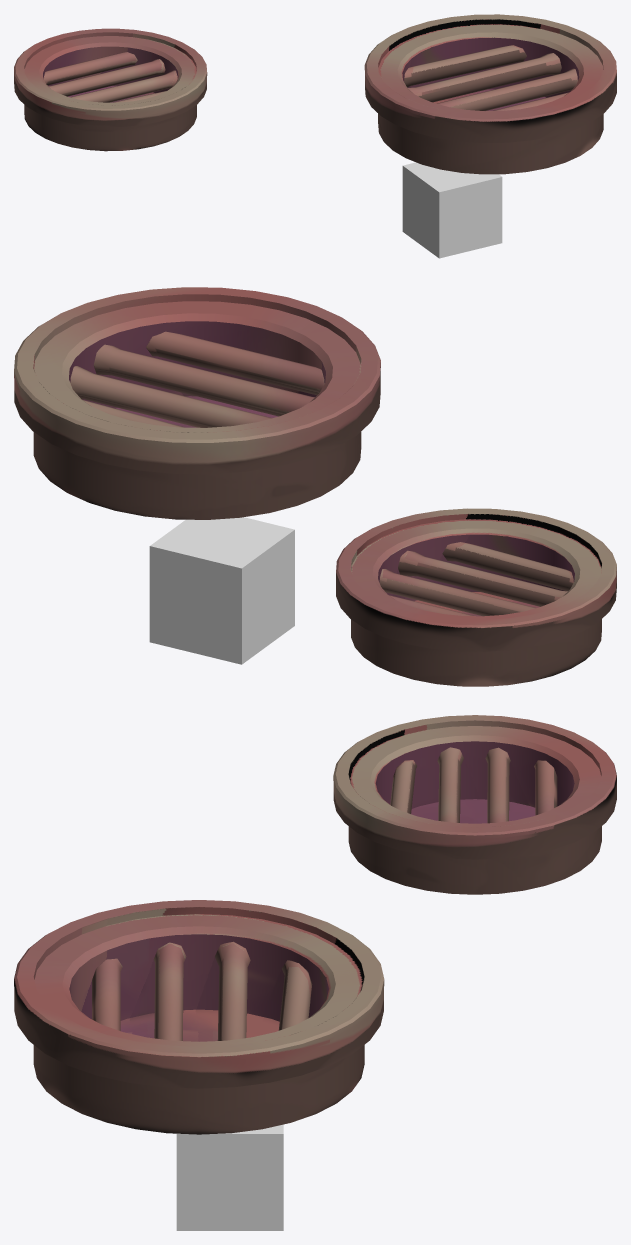
File: battlescence-4-floor005.fbx
3 renders of one model, top to bottom at view 1: azimuth 30°, elevation 25°; view 2: azimuth 150°, elevation 25°; view 3: azimuth 270°, elevation 25°, orthographic. The views are drawn at different scales.
Parts seen in each view (by area): view 1: Cylinder.015, Cylinder.018, battlescence-4-floor005; view 2: Cylinder.015, Cylinder.018, battlescence-4-floor005; view 3: Cylinder.015, Cylinder.018, battlescence-4-floor005.
Boxes of the visible parts, x1=… form: Cylinder.015: x1=364, y1=14, x2=616, y2=174; Cylinder.018: x1=14, y1=28, x2=207, y2=151; battlescence-4-floor005: x1=402, y1=162, x2=502, y2=258; Cylinder.015: x1=14, y1=287, x2=380, y2=519; Cylinder.018: x1=336, y1=508, x2=616, y2=686; battlescence-4-floor005: x1=149, y1=517, x2=294, y2=664; Cylinder.015: x1=14, y1=900, x2=384, y2=1134; Cylinder.018: x1=333, y1=715, x2=616, y2=894; battlescence-4-floor005: x1=176, y1=1124, x2=283, y2=1230.
Size of the model in its own units: 938 by 321 by 697.
